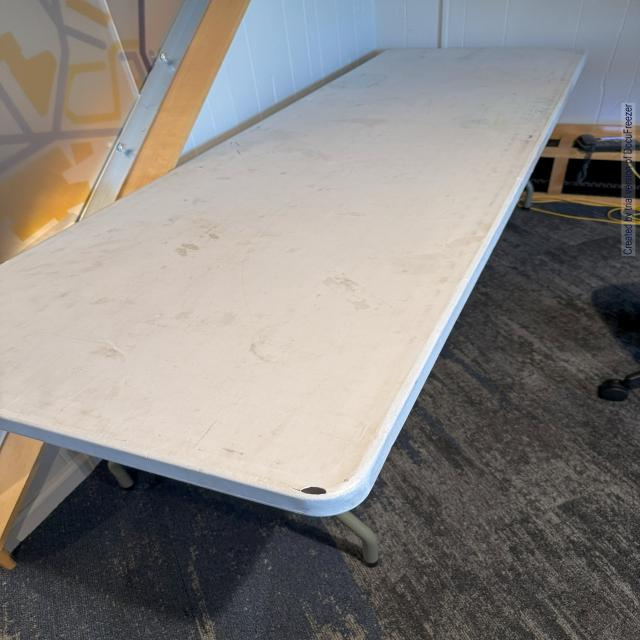Table: (0, 44, 590, 640)
